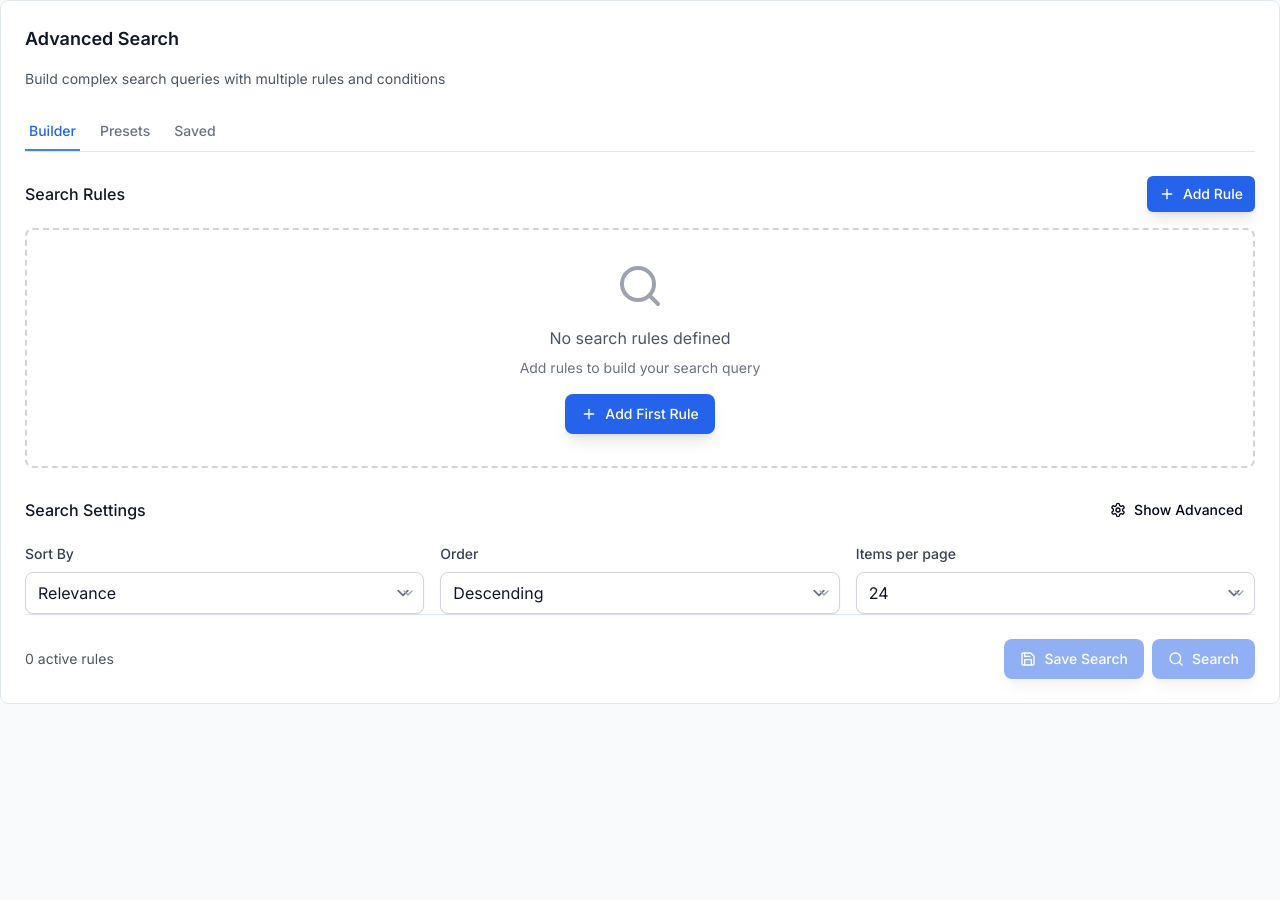
it: AdvancedSearch › adds a rule when Add Rule is clicked
The width and height of the screenshot is (1280, 900).
Click the button "Add First Rule" at (640, 414), box [565, 394, 715, 434]
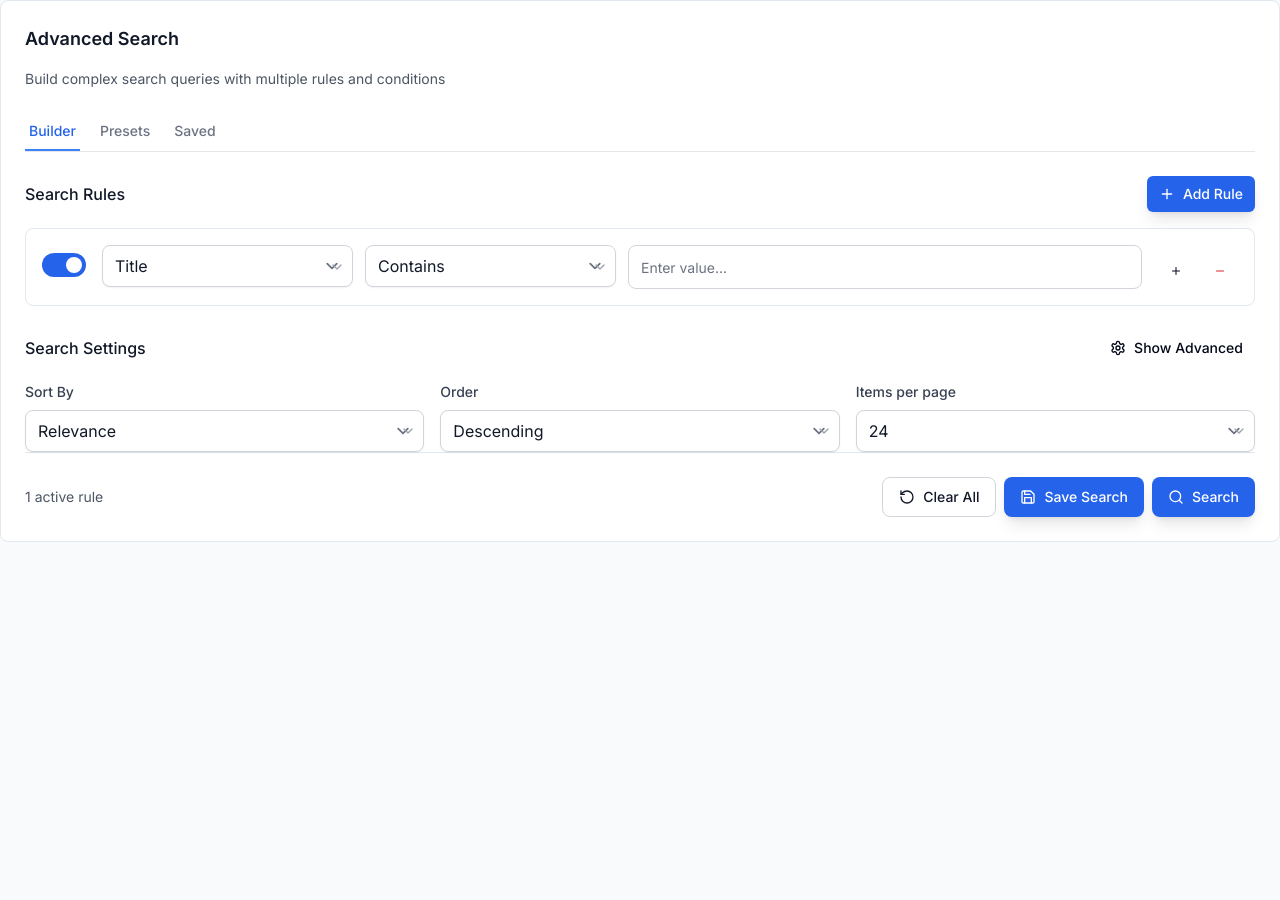
Now the text "No search rules defined" is gone
